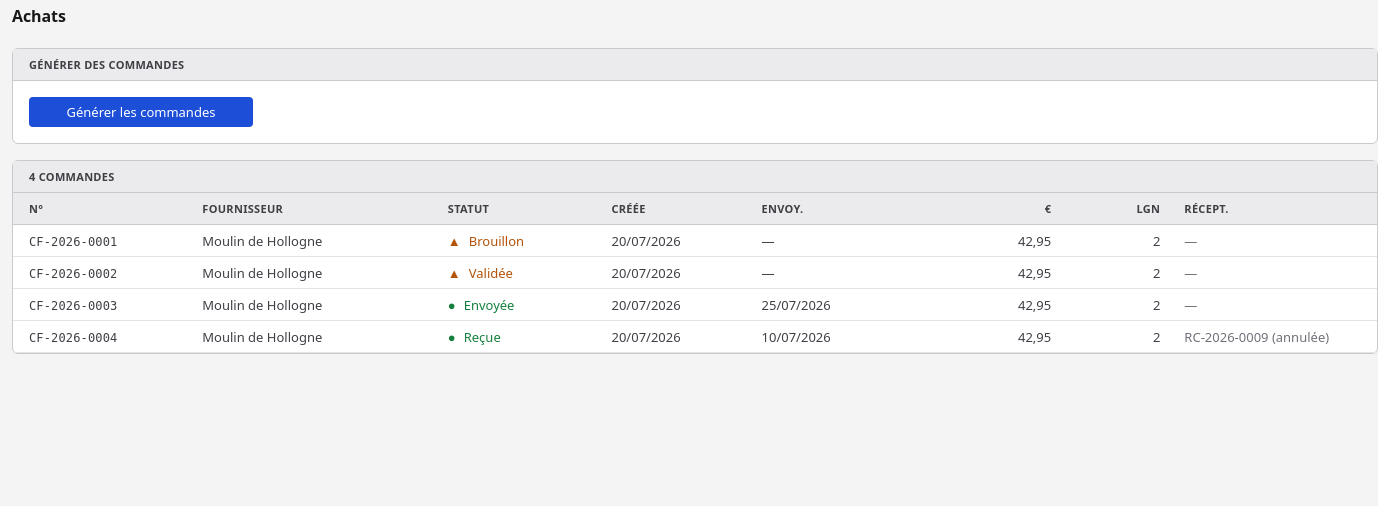
Test case: Achats — chargement, prêt, erreur › la génération dit combien de brouillons, et NOMME les ingrédients qu’elle n’a pas pu commander
Expected: the row "CF-2026-0001" is shown, [13,225,1377,257]
Click the button "Générer les commandes": (141, 112) [29,97,253,127]
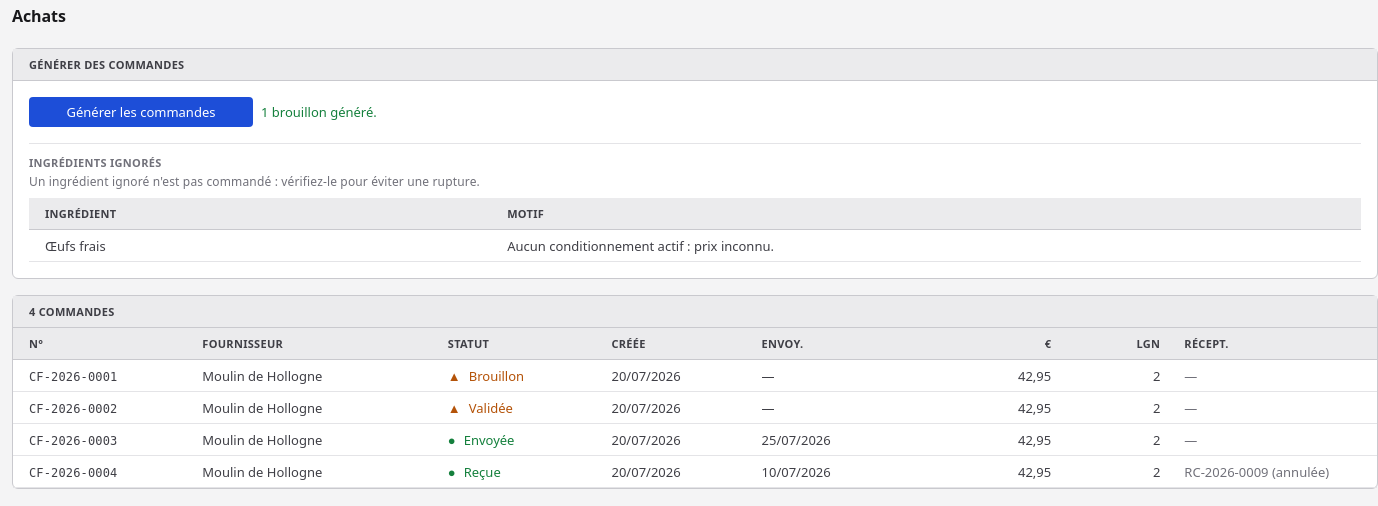
Result: the message shows "1 brouillon généré" at [261,103,377,121]
Result: the row "Œufs frais Aucun conditionnement actif : prix inconnu." is shown at [29,230,1361,262]
